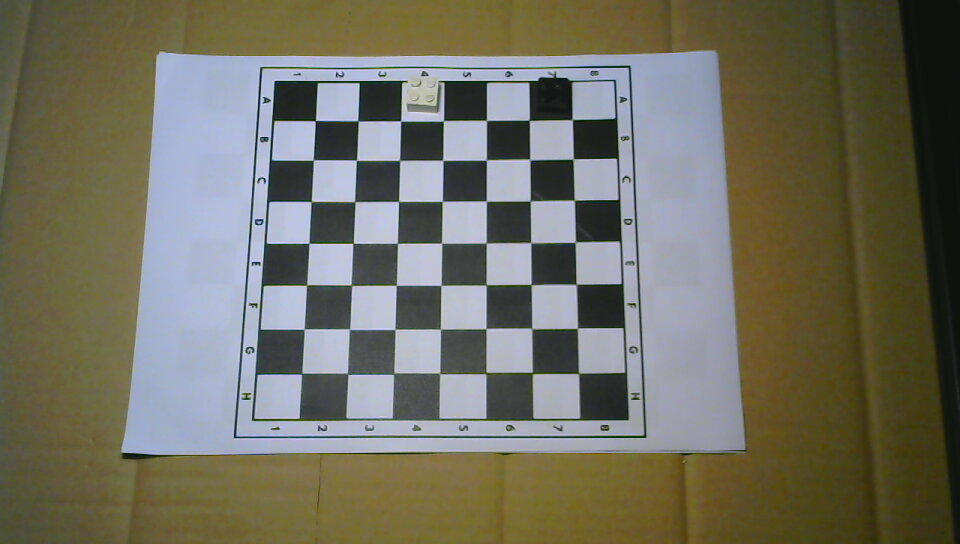bp: (534, 75, 573, 118)
wp: (404, 75, 441, 117)
